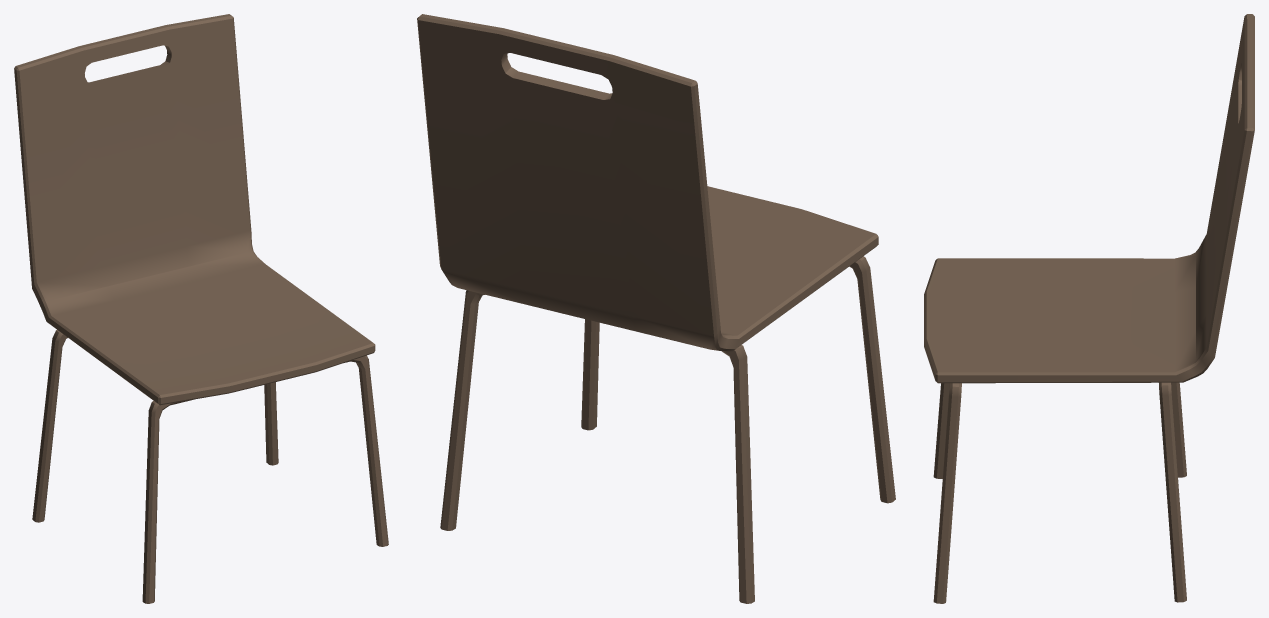
File: isu.fbx
The picture shows the model from 3 angles, left to right: view 1: azimuth 30°, elevation 25°; view 2: azimuth 150°, elevation 25°; view 3: azimuth 270°, elevation 25°; orthographic projection. The views are drawn at different scales.
Visible parts, largest first — view 1: pCube17_map_29_6; view 2: pCube17_map_29_6; view 3: pCube17_map_29_6.
Boxes of the visible parts, x1,y1,x2,y2 form: pCube17_map_29_6: (14,14,388,603); pCube17_map_29_6: (417,14,895,603); pCube17_map_29_6: (924,14,1254,603).
Size of the model in its own units: 4.27 by 7.26 by 4.6.
Materials: 1 (1 with a texture image).
